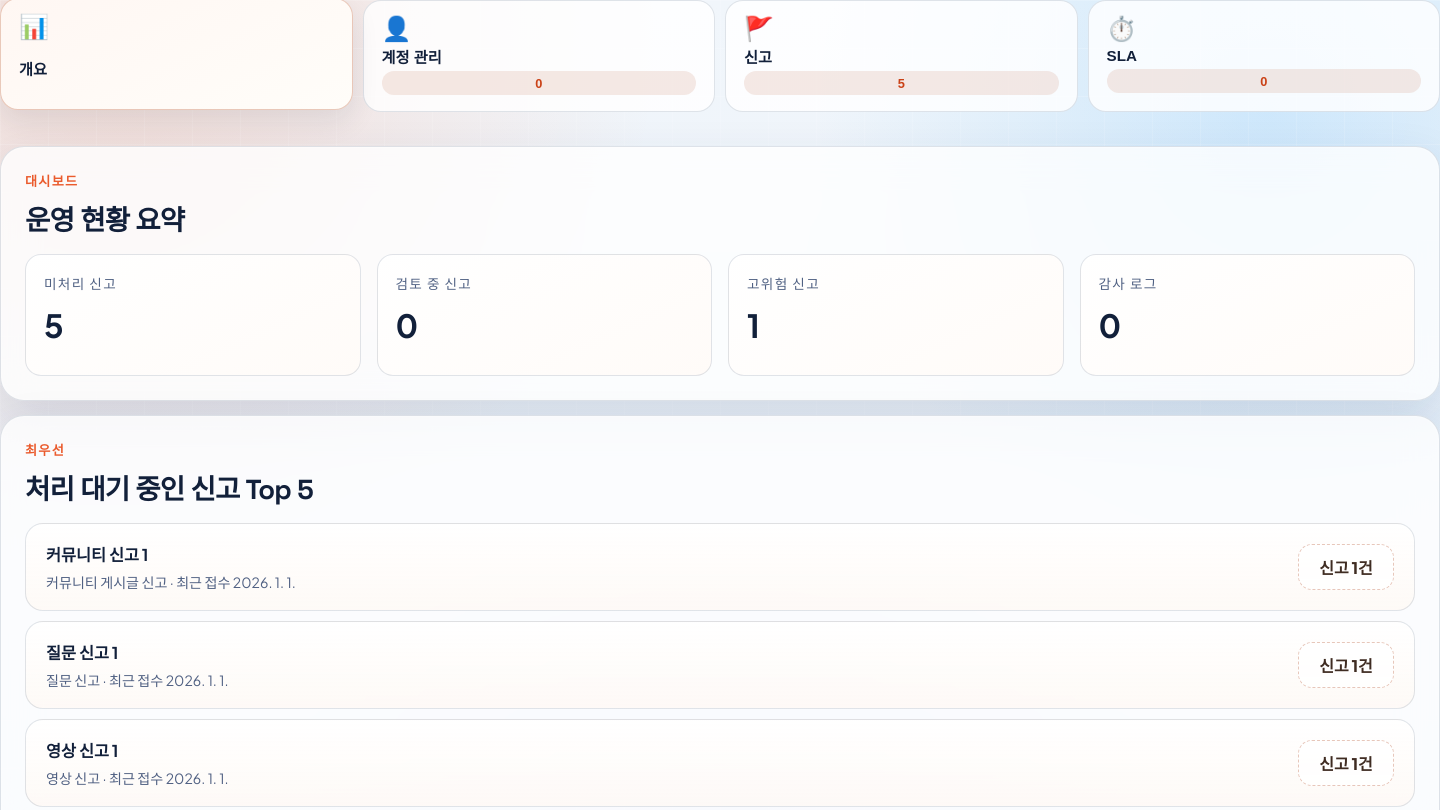
Scenario: admin dashboard report tab (integration) › shows 4 category buttons and filters bucket rows by selected category
The width and height of the screenshot is (1440, 810).
Click the tab "🚩 신고 5". click: (901, 83)
box: [725,0,1078,112]
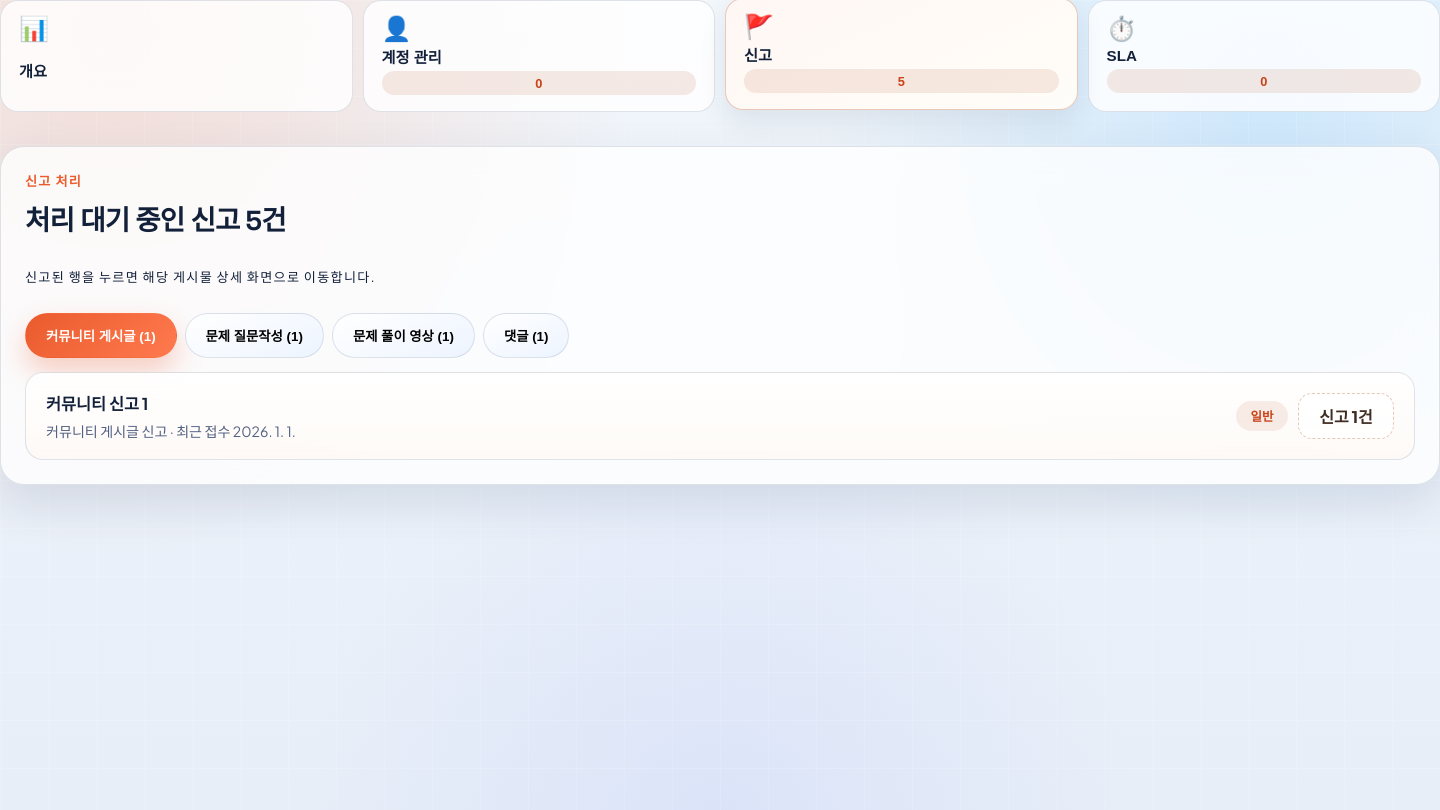
Result: the button "커뮤니티 게시글 (1)" is shown at [25,313,177,358]
Result: the button "문제 질문작성 (1)" is shown
Result: the button "문제 풀이 영상 (1)" is shown at [332,313,475,358]
Click the button "문제 질문작성 (1)". click: (254, 336)
box: [185,313,324,358]
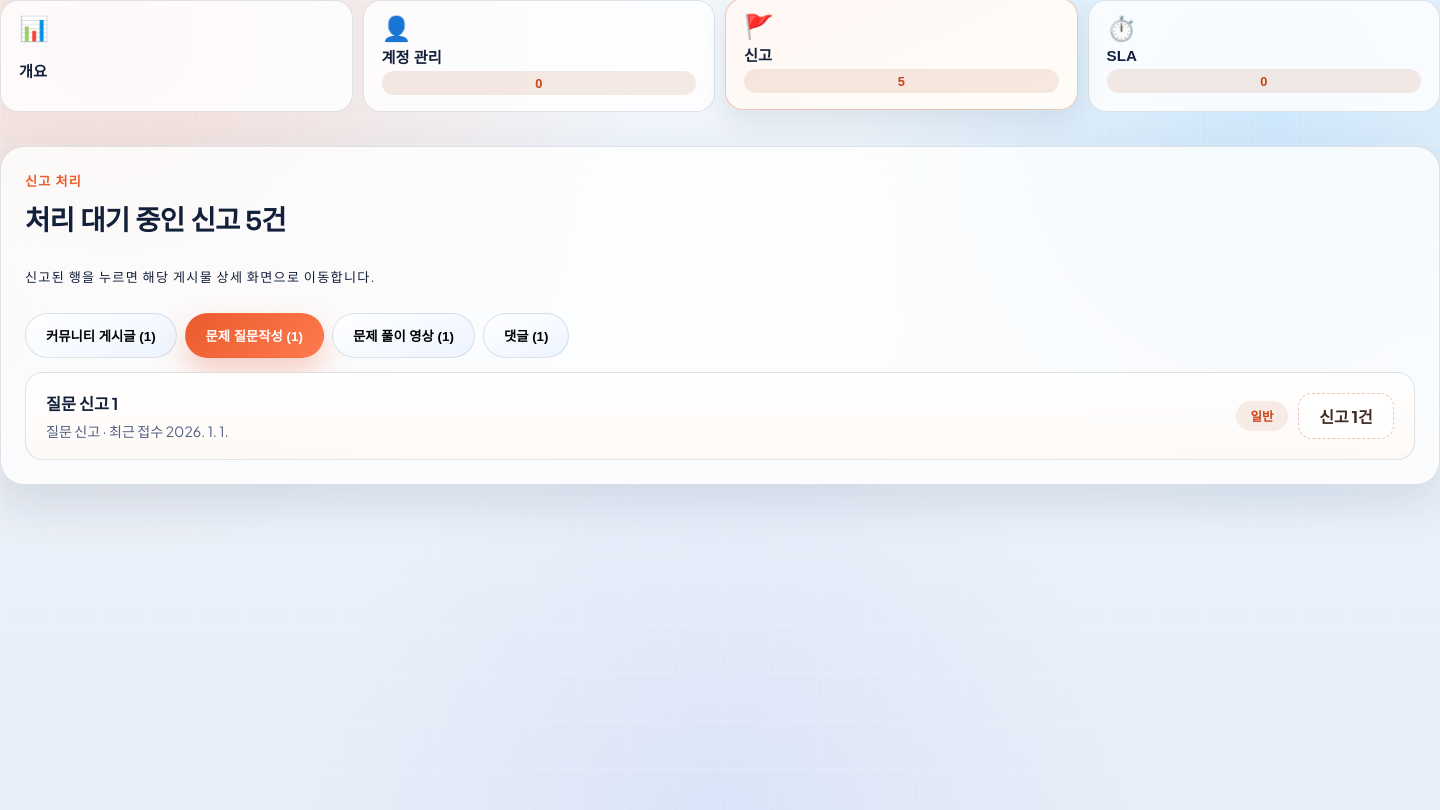
Result: the text "질문 신고 1" is shown at [46,393,118,414]
Result: the link "커뮤니티 신고 1" is gone
Click the button "문제 풀이 영상 (1)". click: (403, 336)
box: [332,313,475,358]
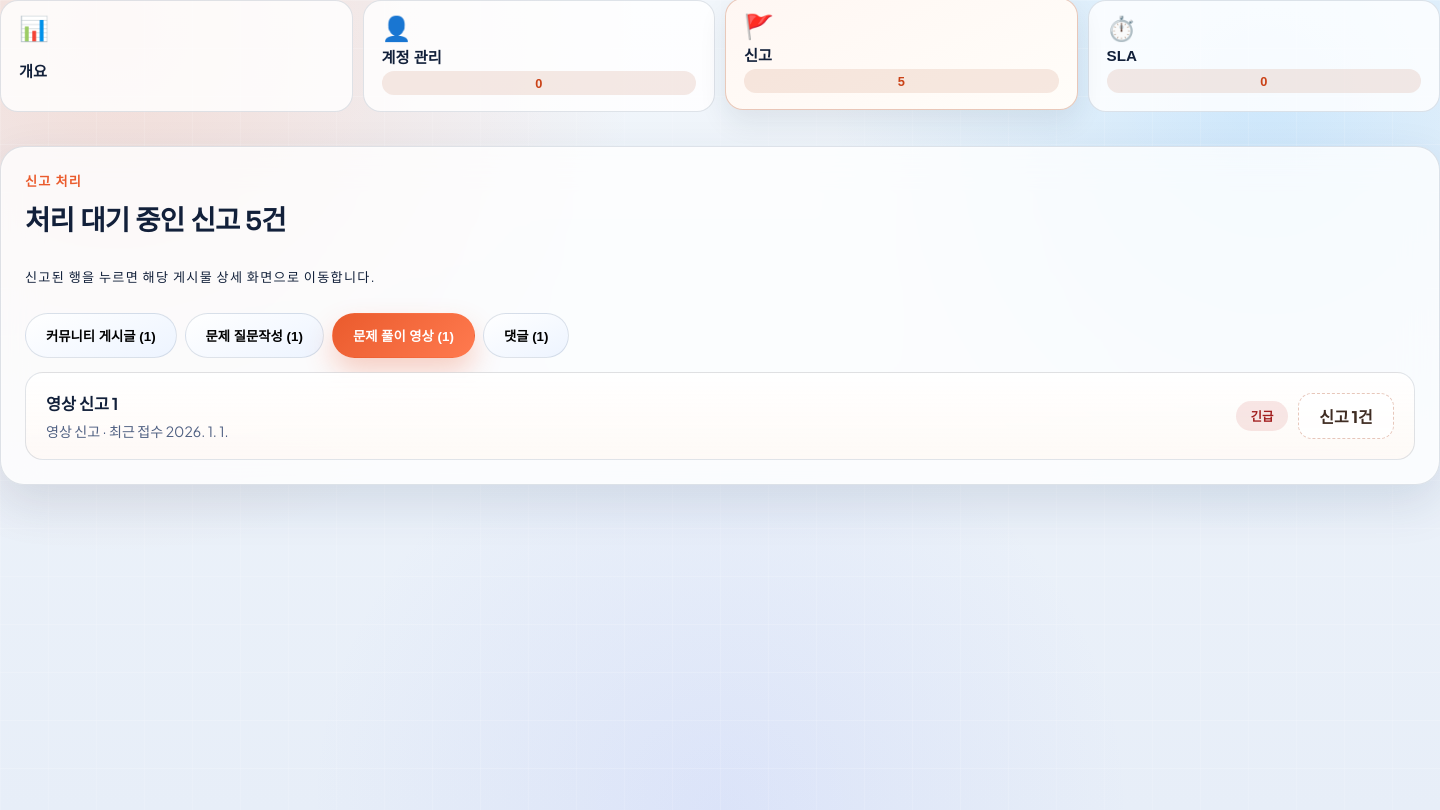
Result: the text "영상 신고 1" is shown at [46,393,118,414]
Result: the link "질문 신고 1" is gone
Click the button "댓글 (1)". click: (526, 336)
box: [483,313,570,358]
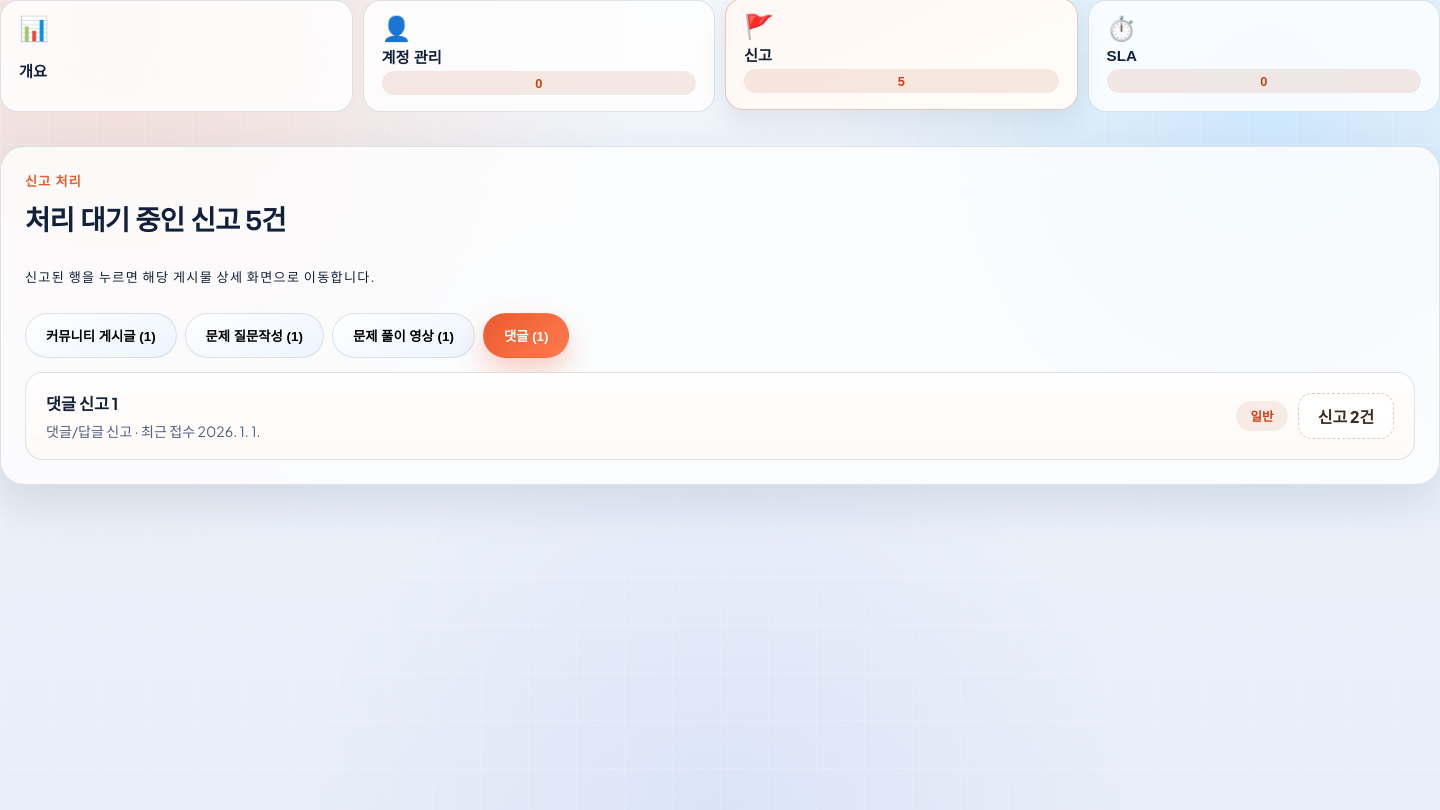
Result: the text "댓글 신고 1" is shown at [46,393,118,414]
Result: the link "영상 신고 1" is gone
